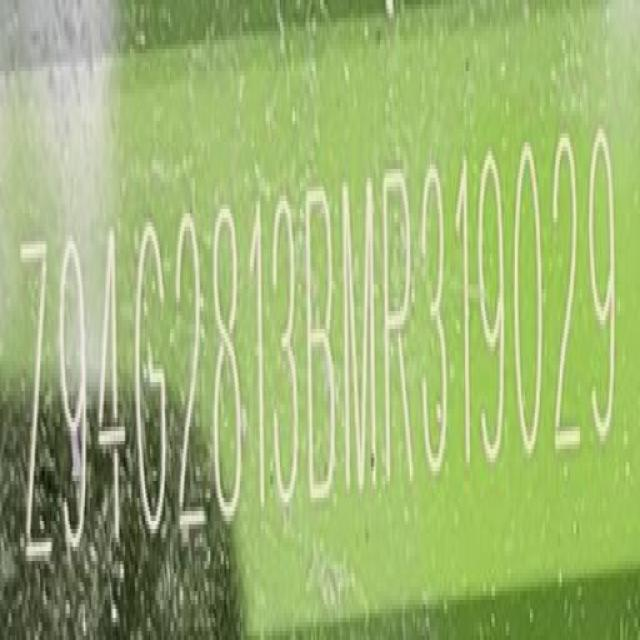0: (514, 134, 546, 467)
1: (455, 156, 476, 474), (250, 197, 270, 520)
2: (178, 206, 209, 539), (554, 130, 582, 464)
3: (422, 161, 451, 482), (274, 190, 301, 514)
4: (96, 225, 129, 558)
8: (211, 199, 244, 532)
9: (56, 233, 88, 570), (590, 126, 620, 457), (479, 148, 508, 470)
B: (304, 179, 338, 503)
G: (134, 216, 167, 550)
M: (338, 170, 381, 496)
R: (386, 169, 418, 492)
Z: (19, 237, 51, 561)
